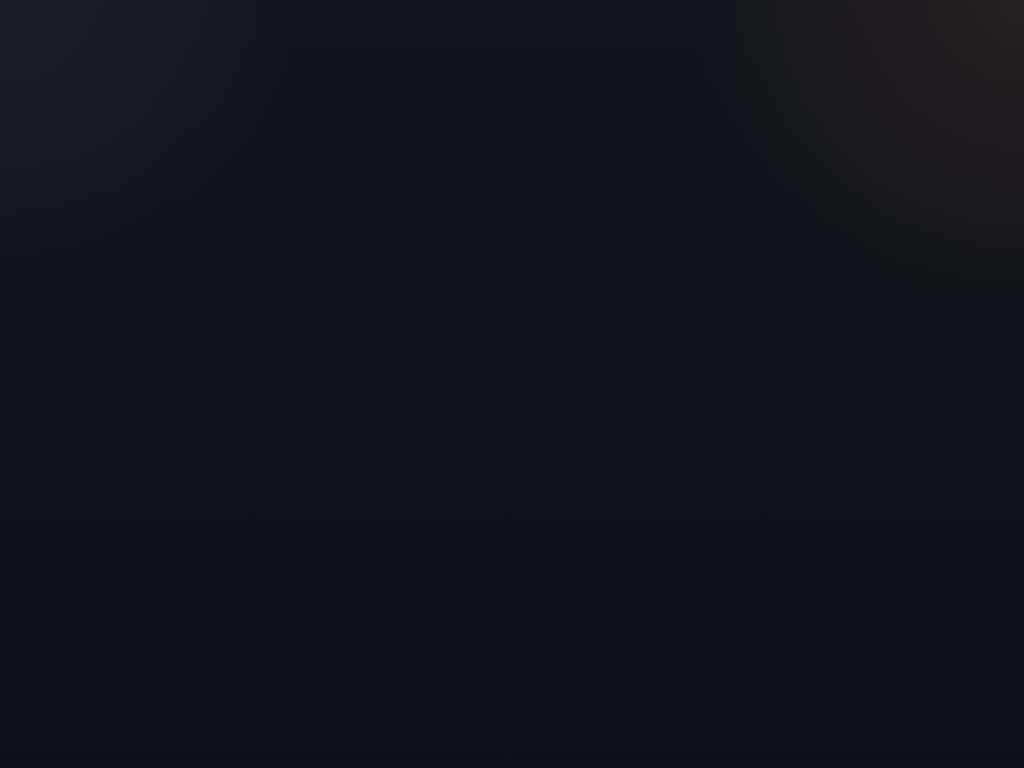
Test: CommandPalette › navigates on Enter and closes palette
Press /
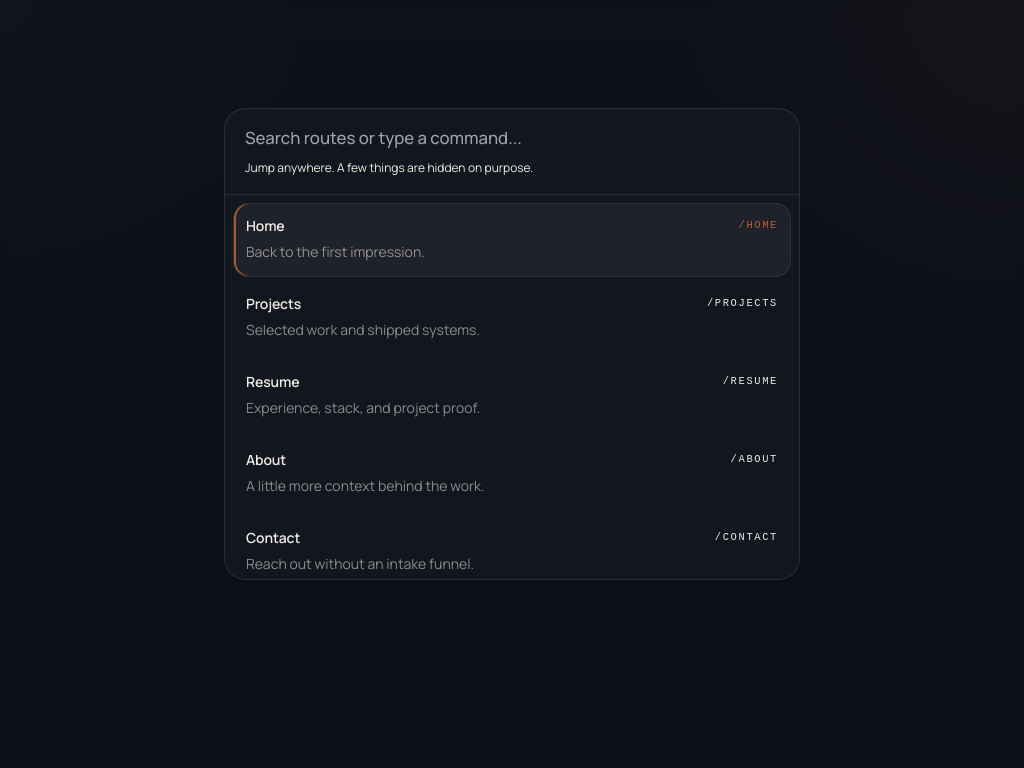
Type "projects" into the field at x=512, y=137, box [245,124,779,150]
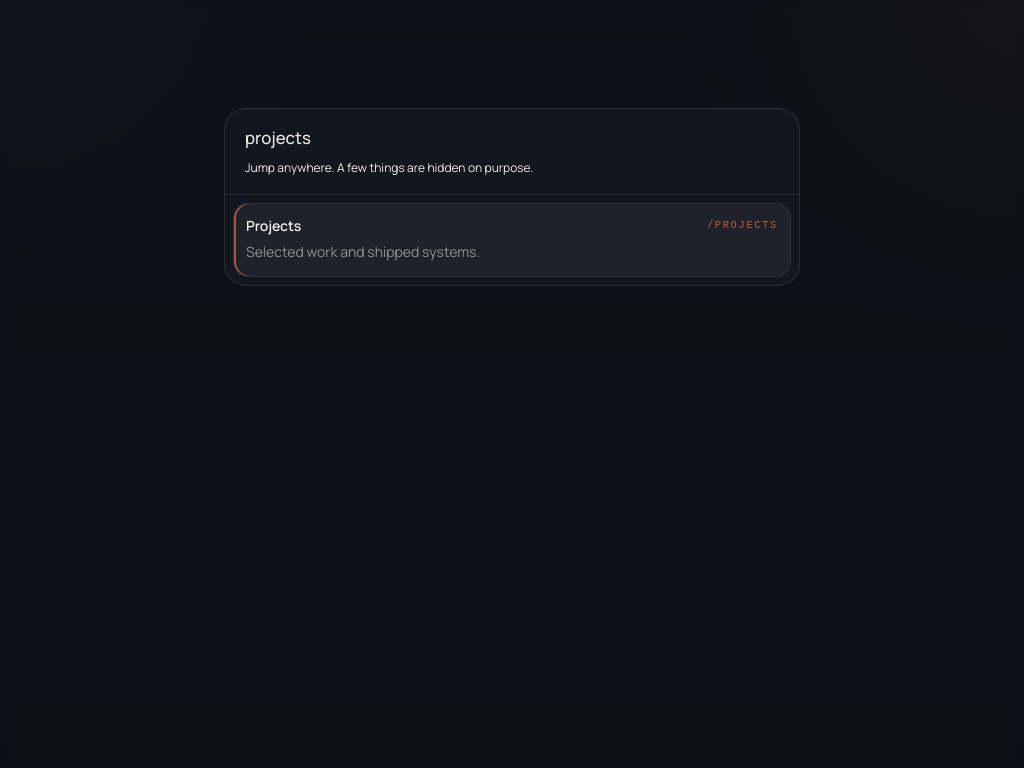
Press Enter in the field, box [245,124,779,150]
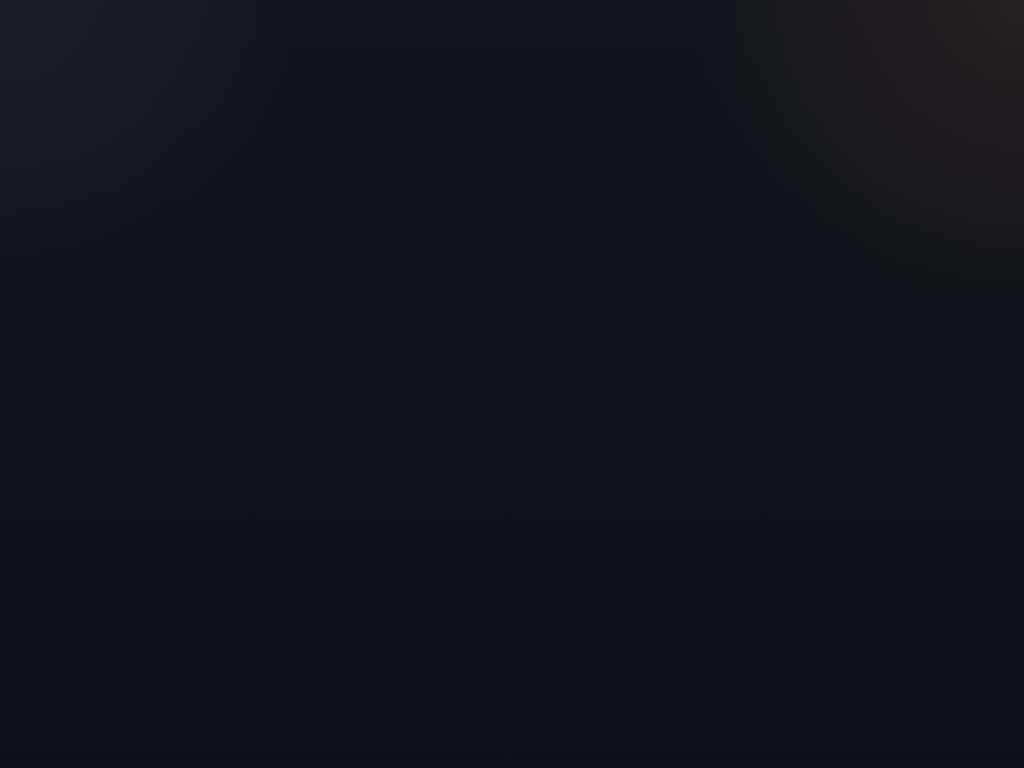
Expected: the dialog is gone
